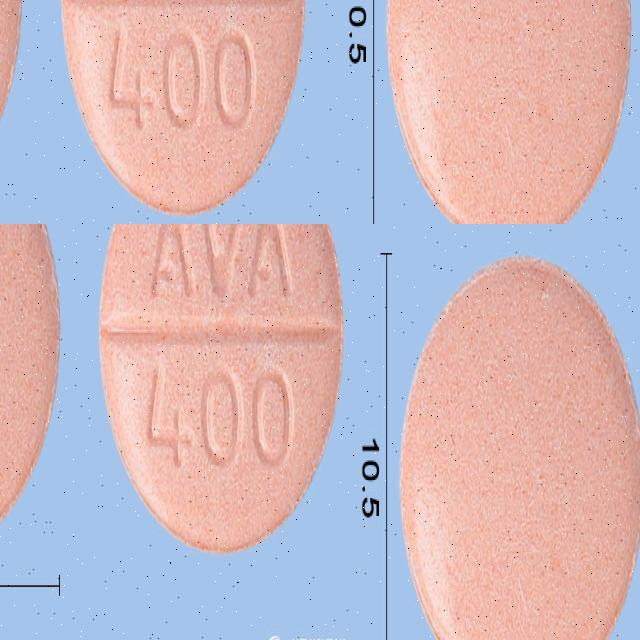Aclova: (398, 255, 640, 640)
Bearcin: (83, 224, 345, 357), (0, 280, 108, 557)
Ciptec: (525, 44, 640, 224)
Croxacin: (0, 37, 92, 224)
